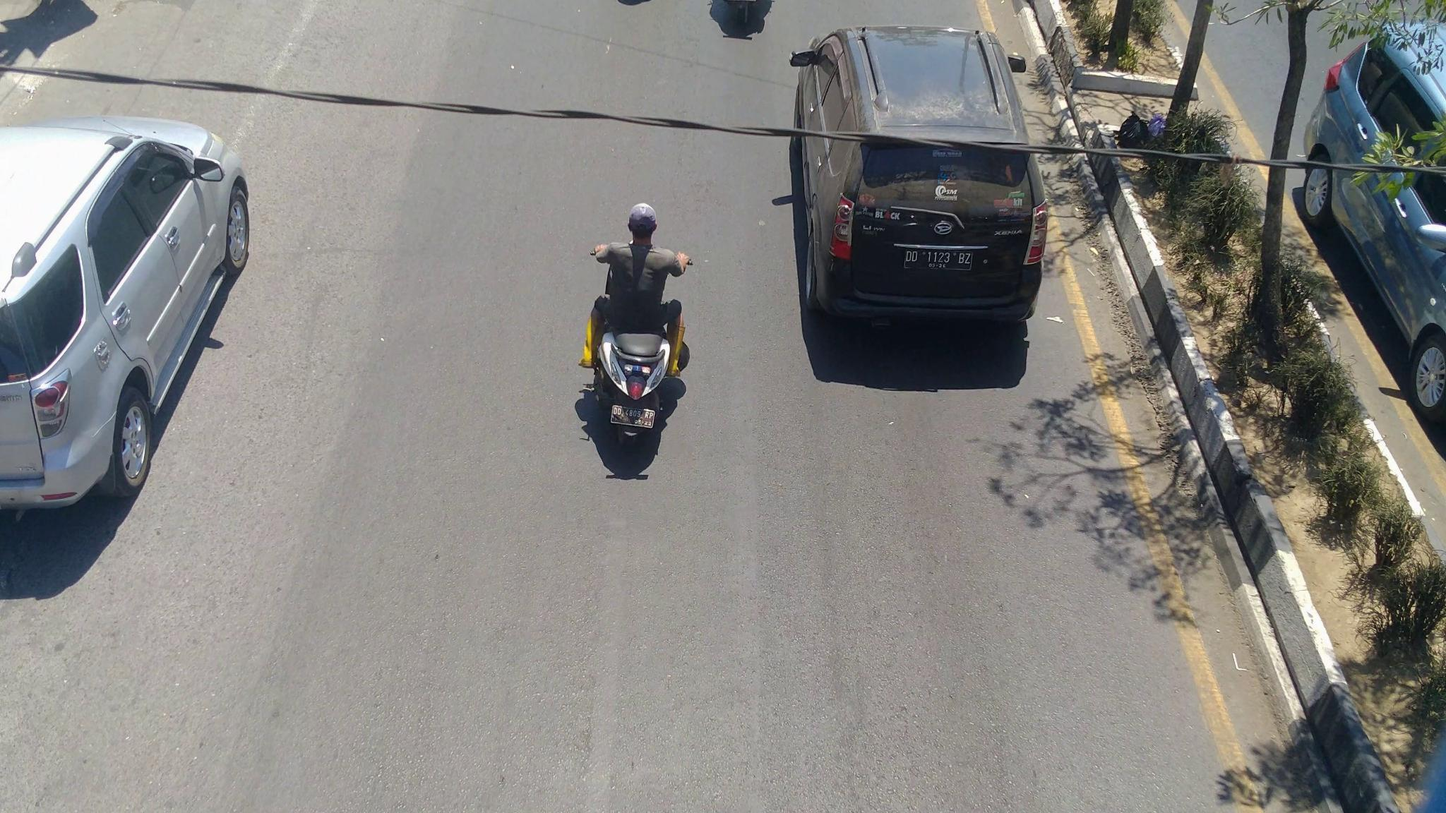bike: (587, 234, 694, 454)
no-helmet: (623, 194, 665, 251)
number-plate: (611, 405, 656, 428)
rider: (582, 201, 689, 378)
